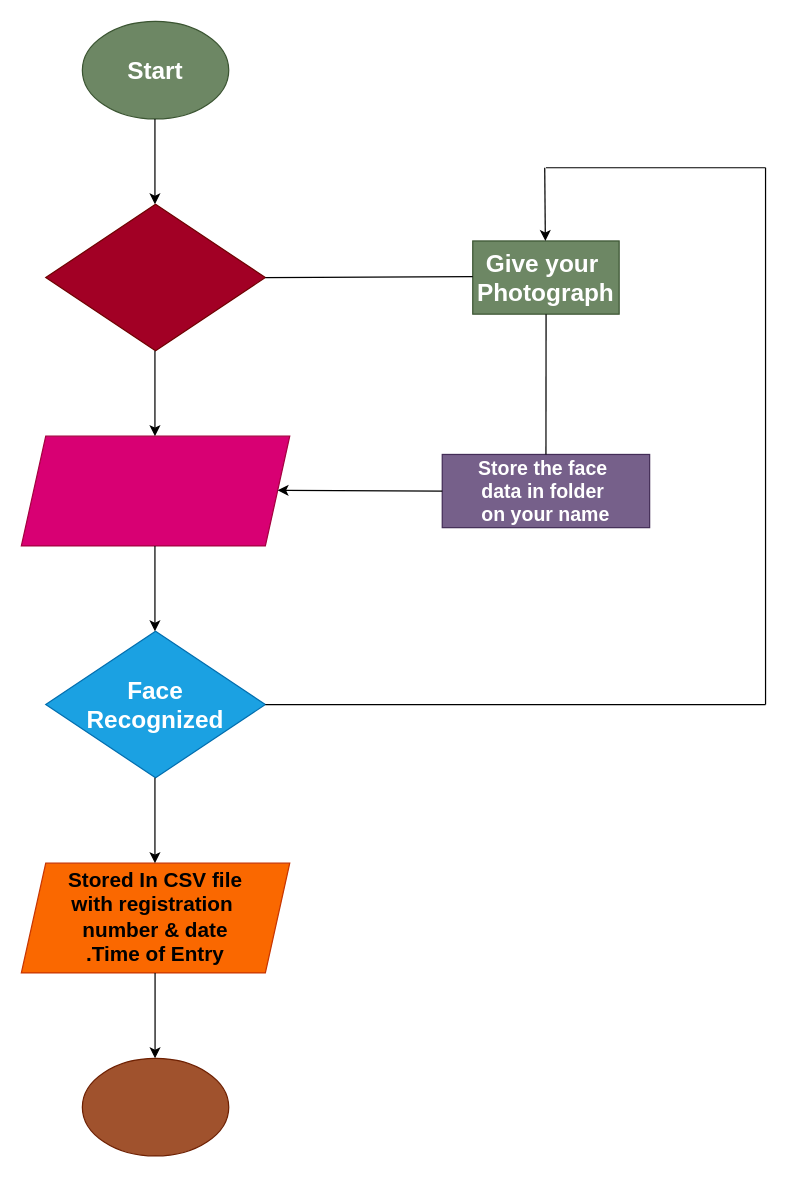
Some shapes in this 788 by 1177 pixel diagram are drawn without their labels. Each missing label, with the centre of its shape:
"END" goes at (x=155, y=1106).
"New User? Create_Dataset" goes at (x=155, y=277).
"Recognize The face" goes at (x=155, y=490).
